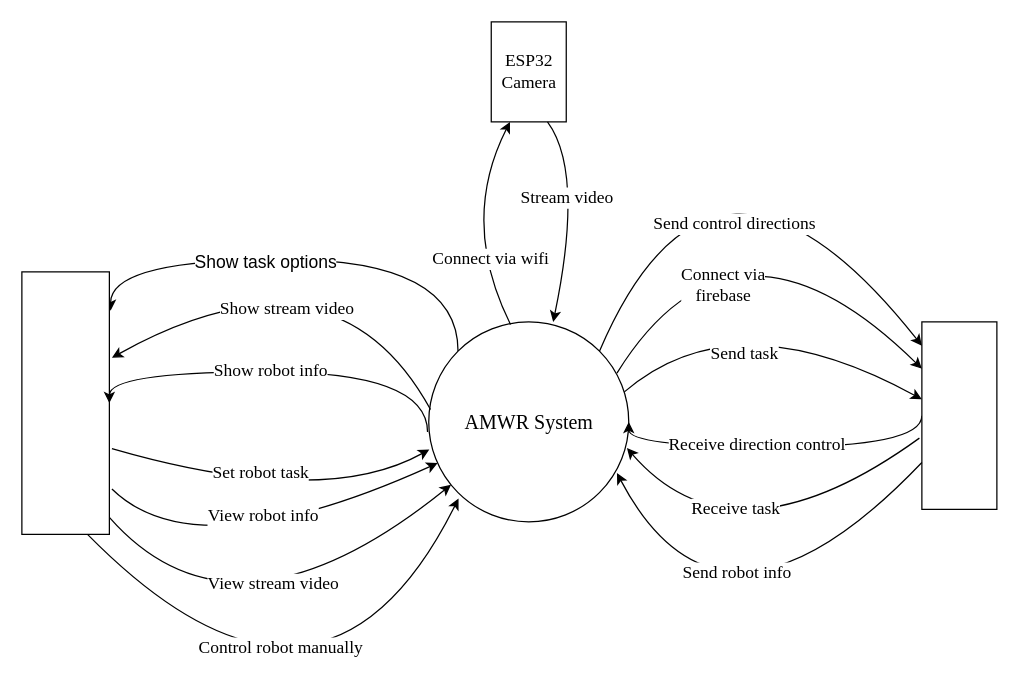
This 1019x680 diagram has some shape labels left out. The centre of each missing label's shape, as x and y in pixels:
AMWR Robot: point 959,415
Operator: point 65,402
